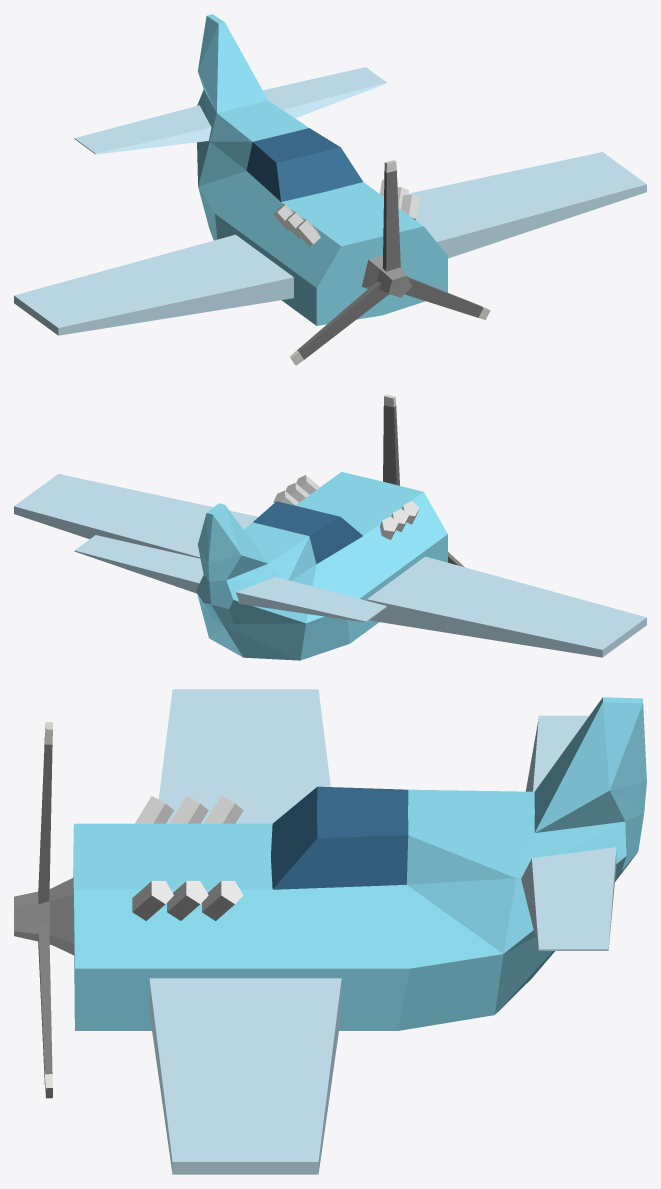
File: char_4.fbx
The picture shows the model from 3 angles, top to bottom: view 1: azimuth 30°, elevation 25°; view 2: azimuth 150°, elevation 25°; view 3: azimuth 270°, elevation 25°; orthographic projection. The views are drawn at different scales.
Visible parts, largest first — view 1: char_4; view 2: char_4; view 3: char_4.
Boxes of the visible parts, <box> form: char_4: <box>14,14,646,365</box>; char_4: <box>14,394,646,660</box>; char_4: <box>14,689,646,1174</box>.
Bounding box in the file's own units: 359 × 115 × 203.
